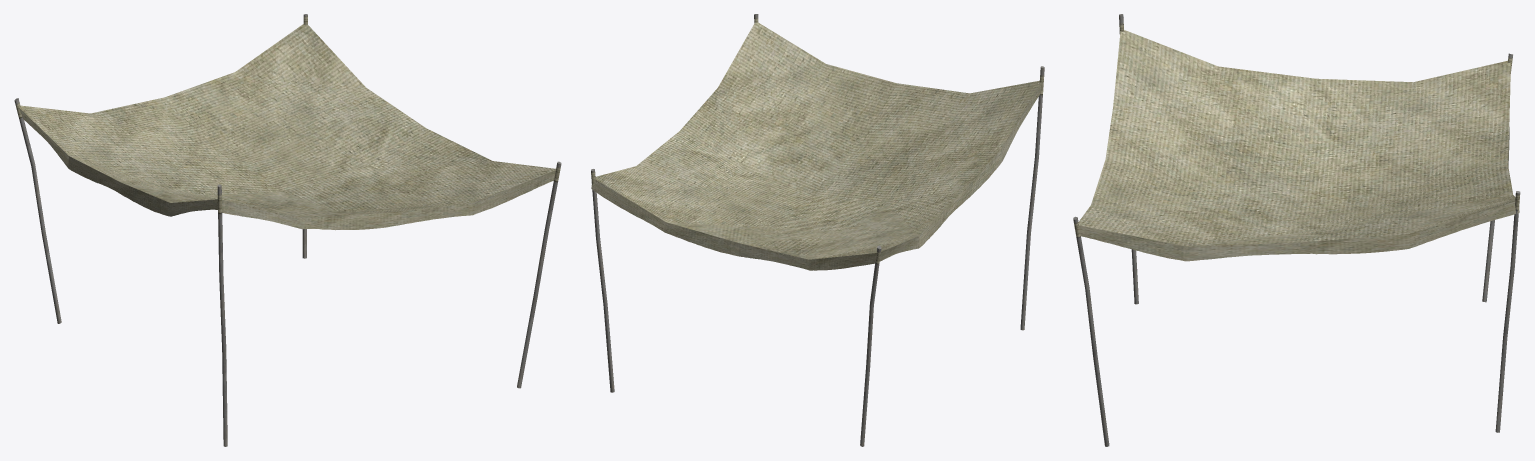
Rendered from poi_corl_tent_small_l0.fbx.
3 views of the same model, side by side, from view 1: azimuth 30°, elevation 25°; view 2: azimuth 150°, elevation 25°; view 3: azimuth 270°, elevation 25° (orthographic). The views are drawn at different scales.
Visible parts, largest first — view 1: mesh_node; view 2: mesh_node; view 3: mesh_node.
Part boxes in pixels (x1,y1,x2,y2): mesh_node: [14, 14, 561, 446]; mesh_node: [591, 14, 1044, 446]; mesh_node: [1073, 14, 1520, 446].
Size of the model in its own units: 4.87 by 3.69 by 5.3.
